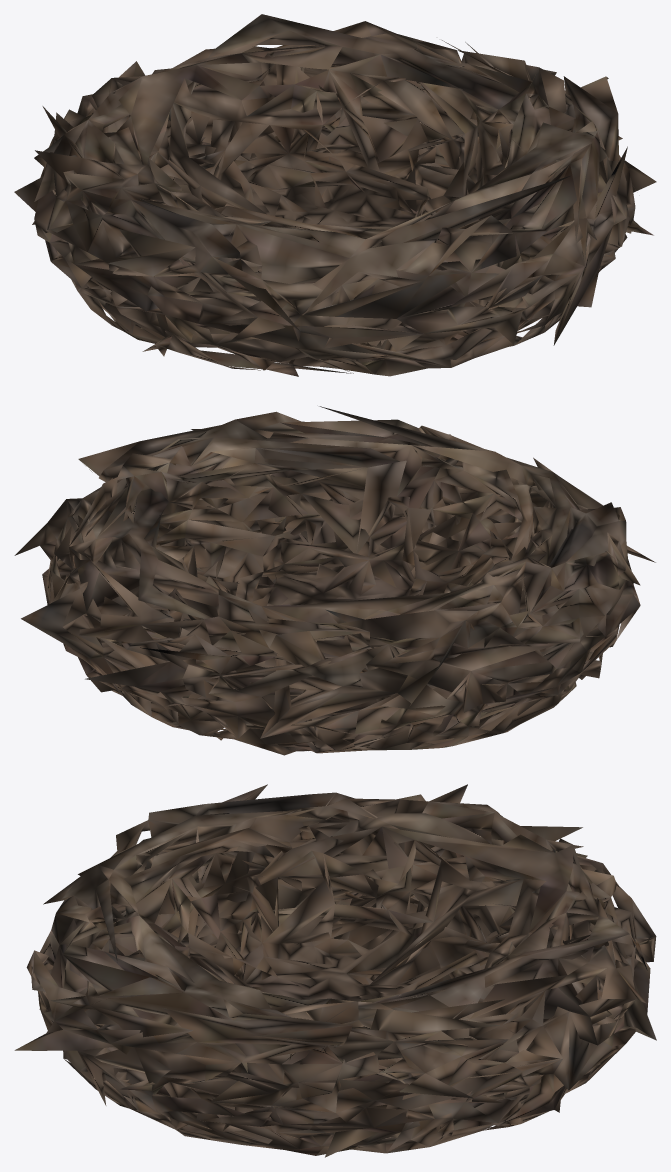
Rendered from 08_nest.glb.
3 renders of one model, top to bottom at view 1: azimuth 30°, elevation 25°; view 2: azimuth 150°, elevation 25°; view 3: azimuth 270°, elevation 25°, orthographic. The views are drawn at different scales.
Visible parts, largest first — view 1: LOW; view 2: LOW; view 3: LOW.
Boxes of the visible parts, left/top/right/bottom form: LOW: left=14, top=14, right=656, bottom=376; LOW: left=14, top=406, right=655, bottom=755; LOW: left=14, top=784, right=656, bottom=1157.
Size of the model in its own units: 3.38 by 0.9546 by 3.36.
Materials: 1 (1 with a texture image).
